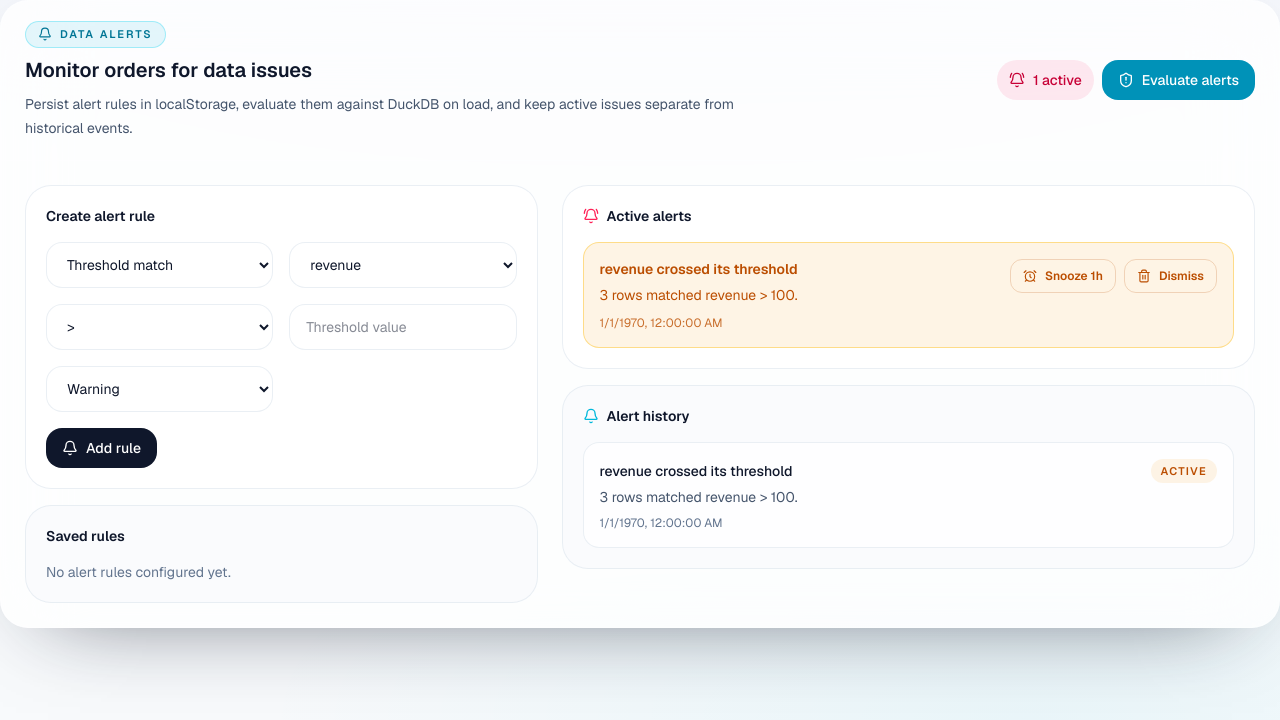
Test case: DataAlerts › snoozes an active alert
Click the button "Snooze 1h".
click(1063, 276)  # box [1010,258,1116,292]
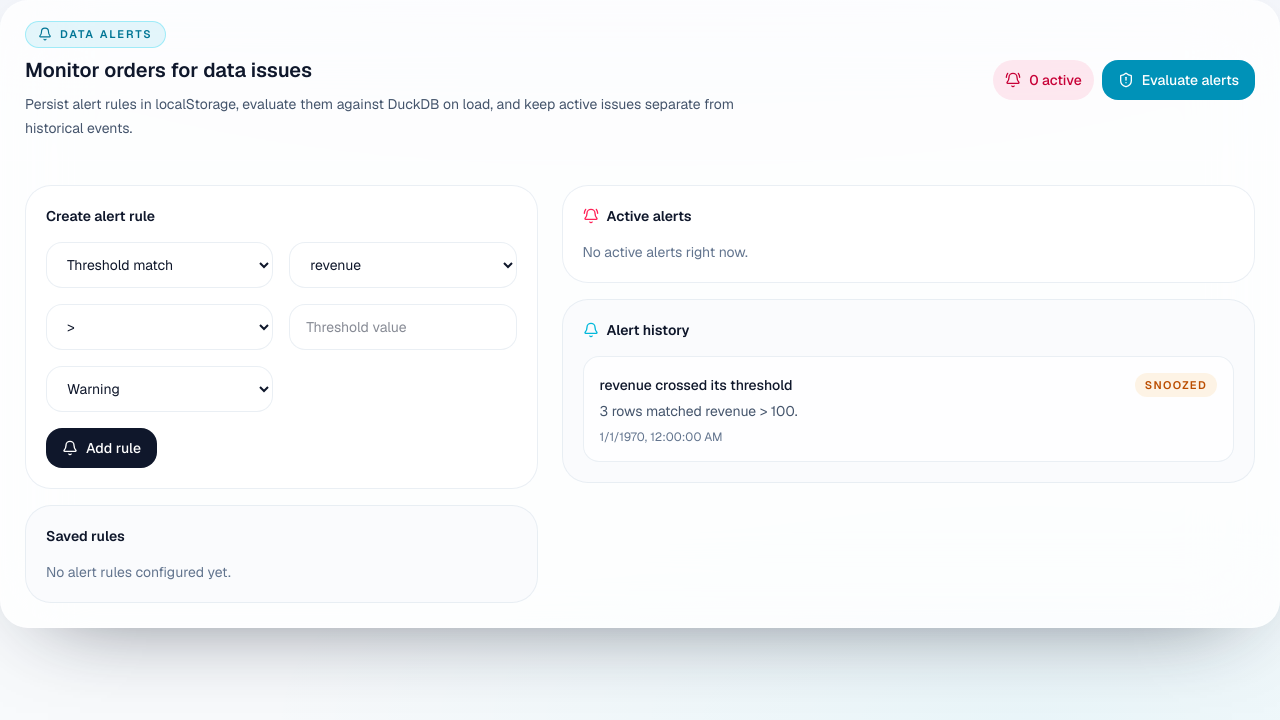
Expected: the text "No active alerts right now." is shown, [582,242,748,260]
Expected: the text "snoozed" is shown, [1135,372,1217,397]
